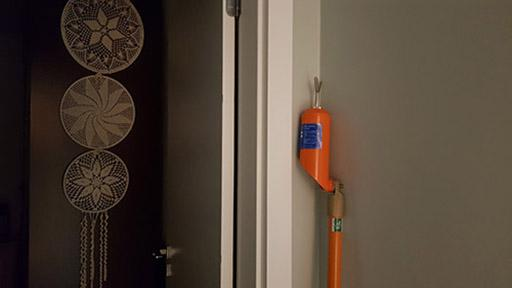Detector_Tensao_Contato: (299, 75, 336, 194)
